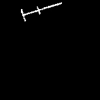double_crochet: (21, 3, 61, 20)
